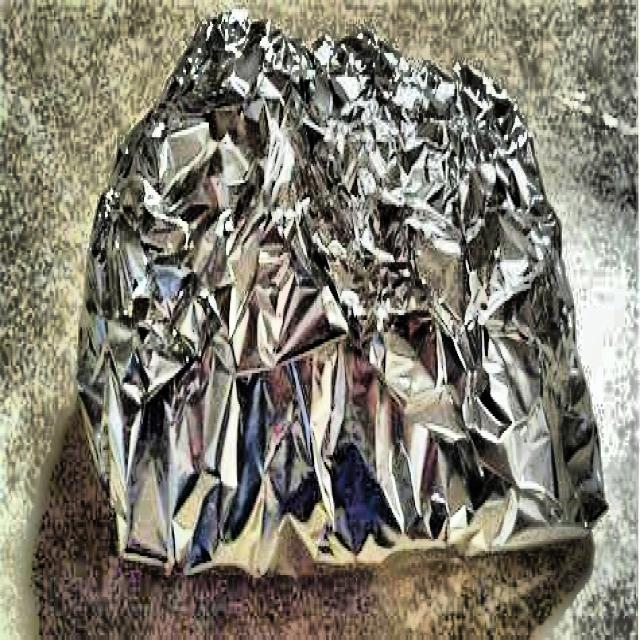Foil: (74, 0, 612, 640)
